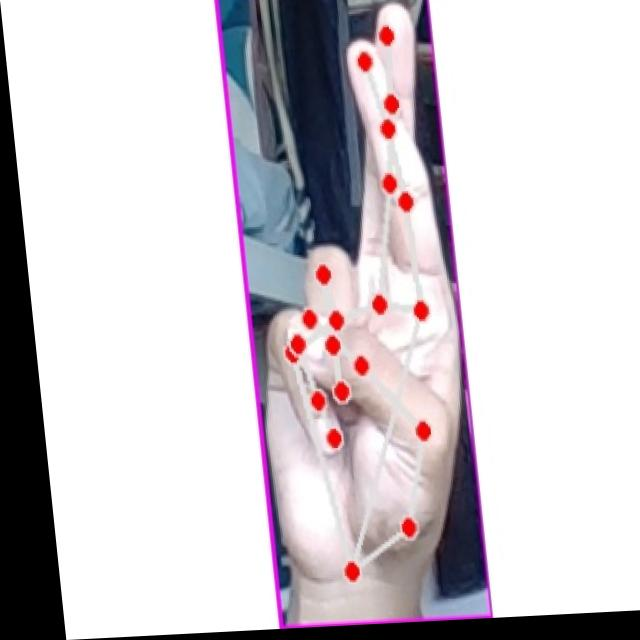R: (231, 2, 470, 605)
